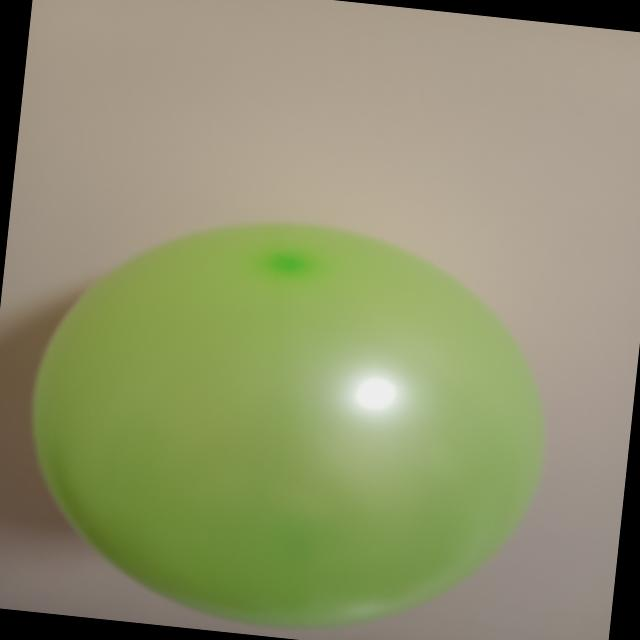balloon: (32, 224, 543, 627)
